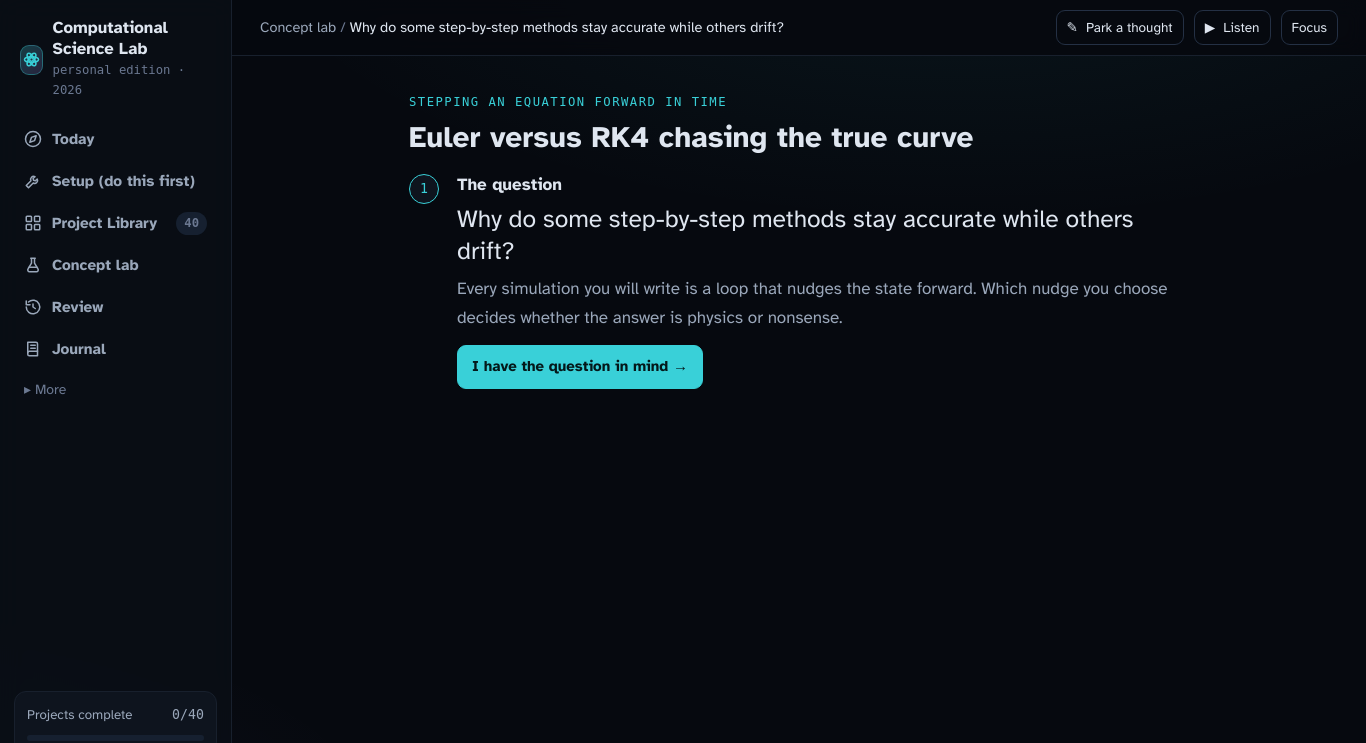
lesson flow › predict → experiment → explanation
The width and height of the screenshot is (1366, 743).
Click the button "I have the question in mind →" at (580, 367), box [457,345,703,389]
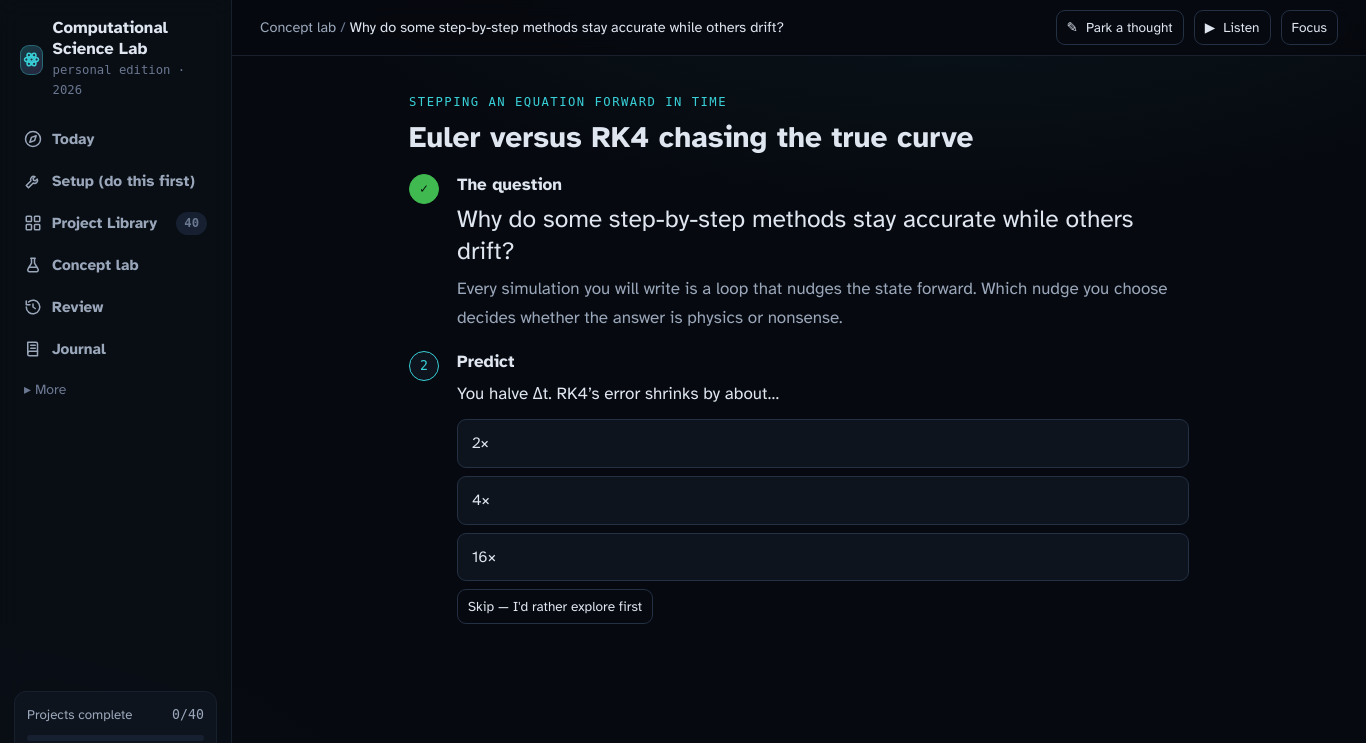
Click the radio button labelled "16×" at (484, 557), box [457,532,1189,581]
(page scrolled)
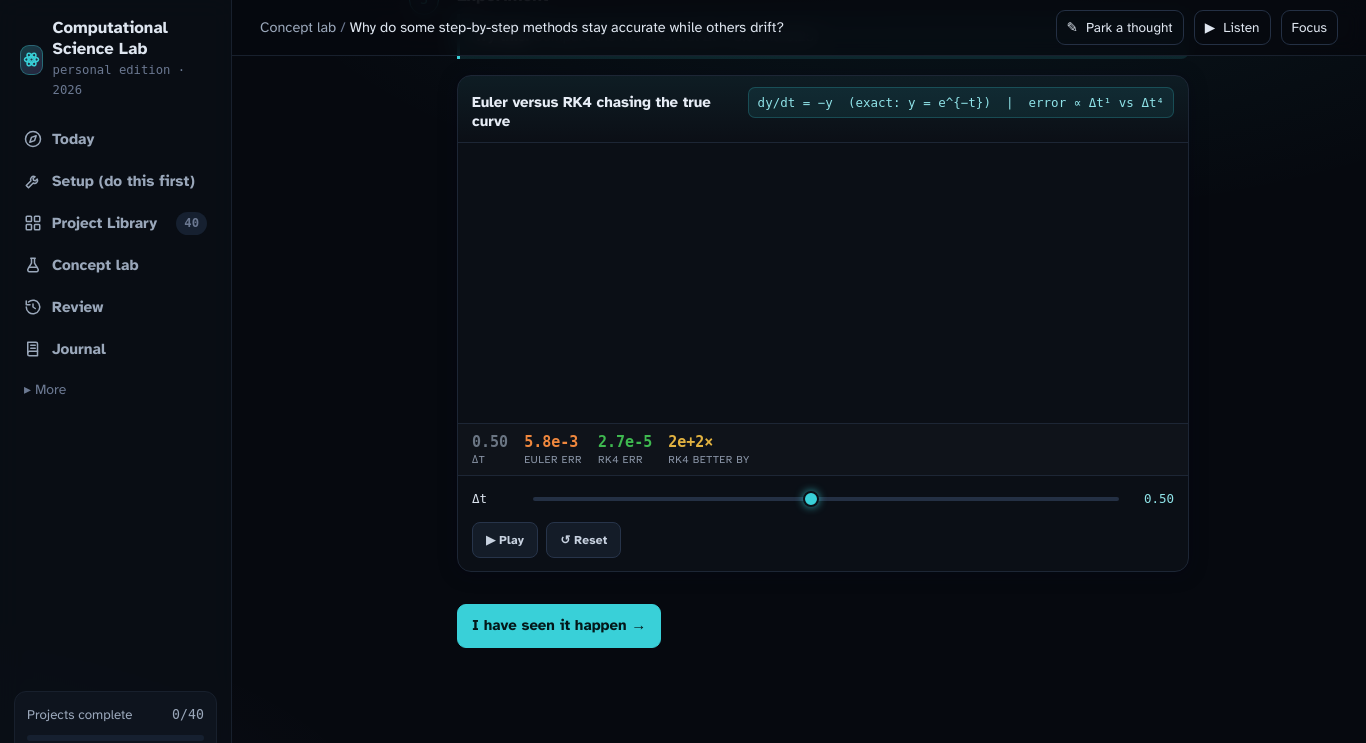
Expected: the text "Try this:" is shown, [474,27,529,45]
Click the button "I have seen it happen →" at (559, 626), box [457,604,661,648]
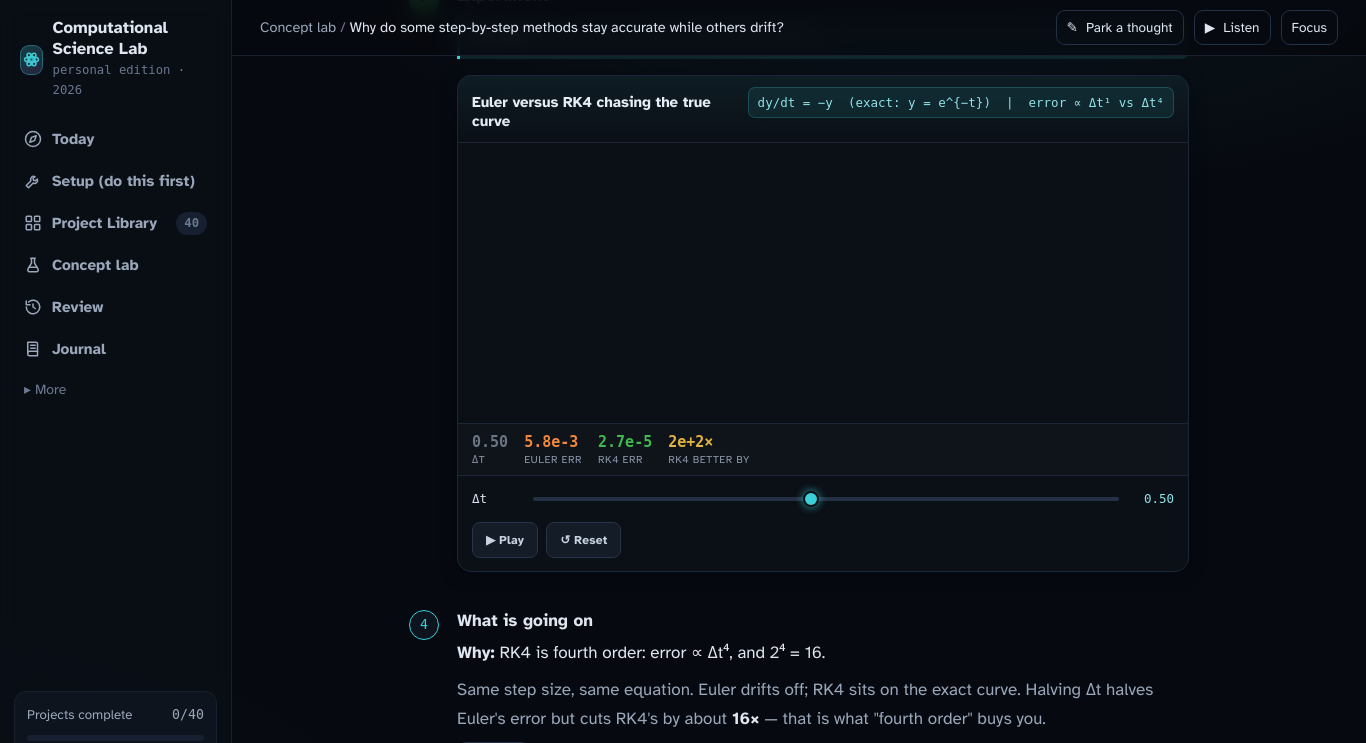
Expected: the text "Why: RK4 is fourth order: error ∝ Δt⁴, and 2⁴ = 16." is shown, [457,642,825,663]
